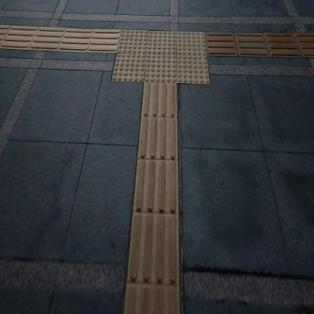Podoctatil: (95, 9, 228, 106), (125, 83, 181, 313), (0, 22, 116, 54), (208, 30, 314, 56)
